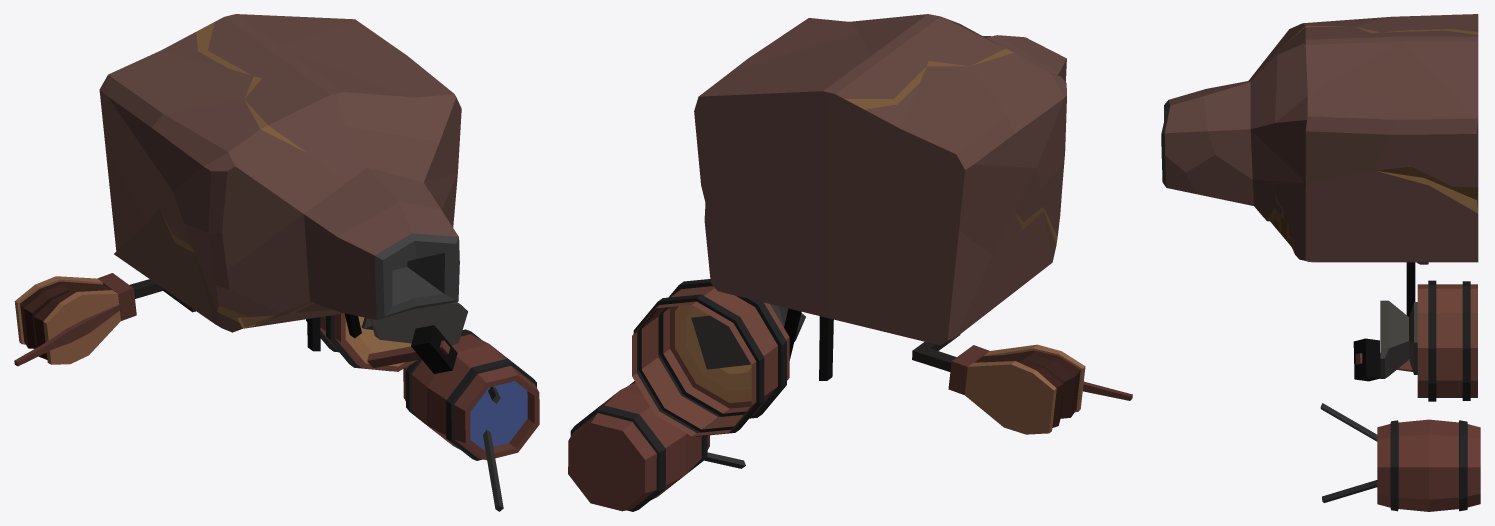
The model's file is smithy_2.fbx.
3 views of the same model, side by side, from view 1: azimuth 30°, elevation 25°; view 2: azimuth 150°, elevation 25°; view 3: azimuth 270°, elevation 25° (orthographic). The views are drawn at different scales.
Visible parts, largest first — view 1: oven, barrel, bellows.001, anvil.001, stump.001, hammer, rod_2.001; view 2: oven, stump.001, barrel, bellows.001, anvil.001, ticks left; view 3: oven, barrel, stump.001, anvil.001, hammer, rod.001, ticks right, rod_2.001.
Part boxes in pixels (x1=…): oven: x1=99, y1=14, x2=461, y2=332; barrel: x1=403, y1=329, x2=539, y2=460; bellows.001: x1=14, y1=273, x2=195, y2=366; anvil.001: x1=362, y1=302, x2=467, y2=345; stump.001: x1=306, y1=313, x2=417, y2=371; hammer: x1=367, y1=325, x2=457, y2=373; rod_2.001: x1=483, y1=430, x2=503, y2=511; oven: x1=694, y1=14, x2=1066, y2=345; stump.001: x1=632, y1=279, x2=789, y2=436; barrel: x1=568, y1=381, x2=709, y2=511; bellows.001: x1=912, y1=334, x2=1132, y2=434; anvil.001: x1=691, y1=304, x2=805, y2=369; ticks left: x1=819, y1=316, x2=833, y2=380; oven: x1=1161, y1=14, x2=1478, y2=264; barrel: x1=1377, y1=419, x2=1480, y2=511; stump.001: x1=1417, y1=280, x2=1477, y2=401; anvil.001: x1=1380, y1=300, x2=1417, y2=378; hammer: x1=1353, y1=338, x2=1412, y2=381; rod.001: x1=1320, y1=403, x2=1377, y2=441; ticks right: x1=1406, y1=262, x2=1414, y2=316; rod_2.001: x1=1322, y1=480, x2=1377, y2=502.
Size of the model in its own units: 1.39 by 1.23 by 0.9088.
